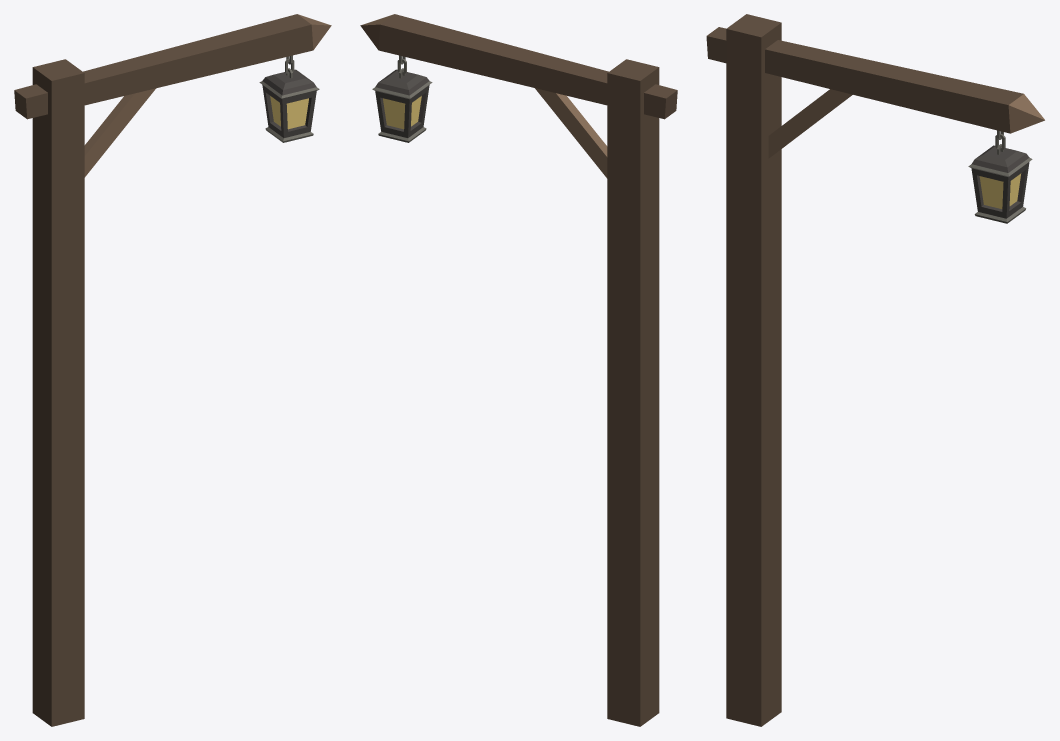
Rendered from Lantern.obj.
3 views of the same model, side by side, from view 1: azimuth 30°, elevation 25°; view 2: azimuth 150°, elevation 25°; view 3: azimuth 330°, elevation 25° (orthographic). The views are drawn at different scales.
Visible parts, largest first — view 1: object5, object2, object6, object1, object8; view 2: object5, object2, object6, object1, object8; view 3: object5, object2, object6, object1, object8.
Boxes of the visible parts, x1,y1,x2,y2 form: object5: [32, 59, 84, 726]; object2: [14, 14, 331, 119]; object6: [259, 69, 319, 142]; object1: [84, 88, 155, 177]; object8: [270, 96, 308, 129]; object5: [607, 59, 659, 726]; object2: [360, 14, 677, 119]; object6: [372, 69, 432, 142]; object1: [535, 88, 607, 178]; object8: [383, 96, 421, 129]; object5: [726, 14, 781, 726]; object2: [706, 27, 1044, 133]; object6: [968, 145, 1032, 223]; object1: [768, 89, 852, 158]; object8: [979, 173, 1021, 208].
Size of the model in its own units: 1.9 by 3.75 by 0.2333.
